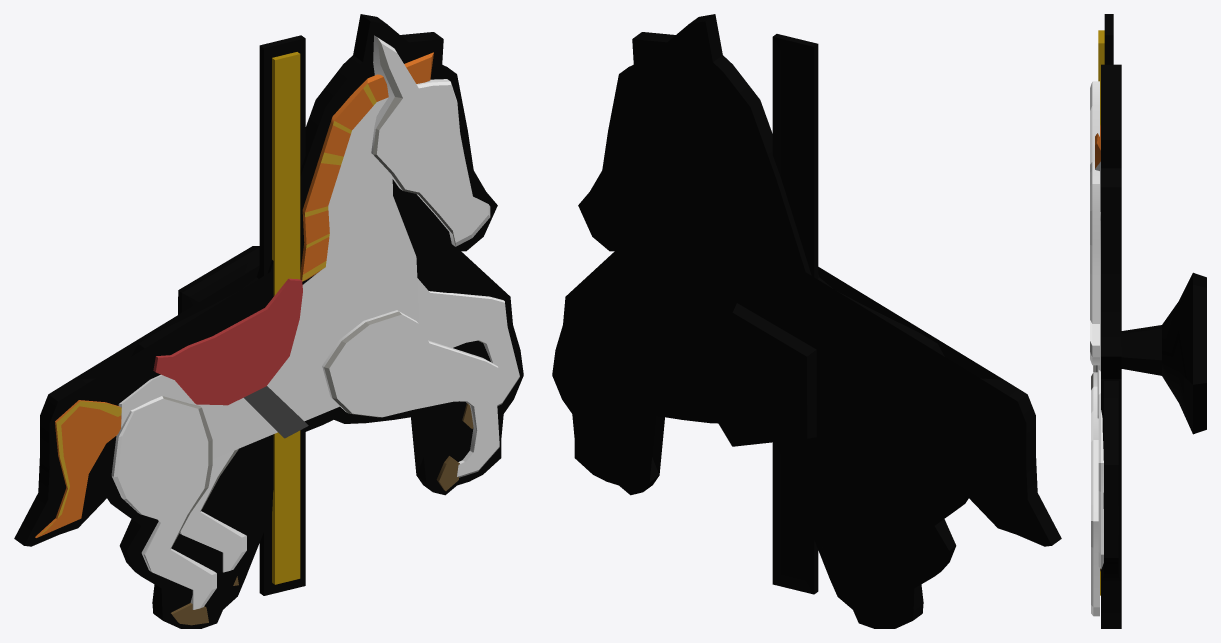
File: MeeryGoRoundhorse.fbx
3 renders of one model, left to right at view 1: azimuth 30°, elevation 25°; view 2: azimuth 150°, elevation 25°; view 3: azimuth 270°, elevation 25°, orthographic. The views are drawn at different scales.
Parts seen in each view (by area): view 1: pCube9; view 2: pCube9; view 3: pCube9.
Boxes of the visible parts, x1=… form: pCube9: x1=14, y1=14, x2=523, y2=628; pCube9: x1=552, y1=14, x2=1061, y2=628; pCube9: x1=1090, y1=14, x2=1206, y2=628.
Bounding box in the file's own units: 1.34 × 1.45 × 0.2569.
